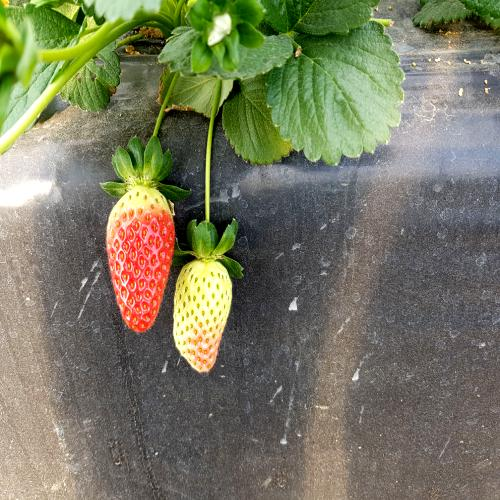partially-ripe: (102, 183, 175, 333)
unripe: (168, 255, 234, 374)
